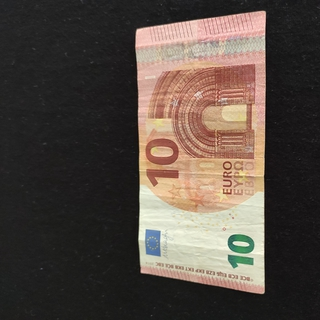10EUROFront: (134, 10, 267, 295)
